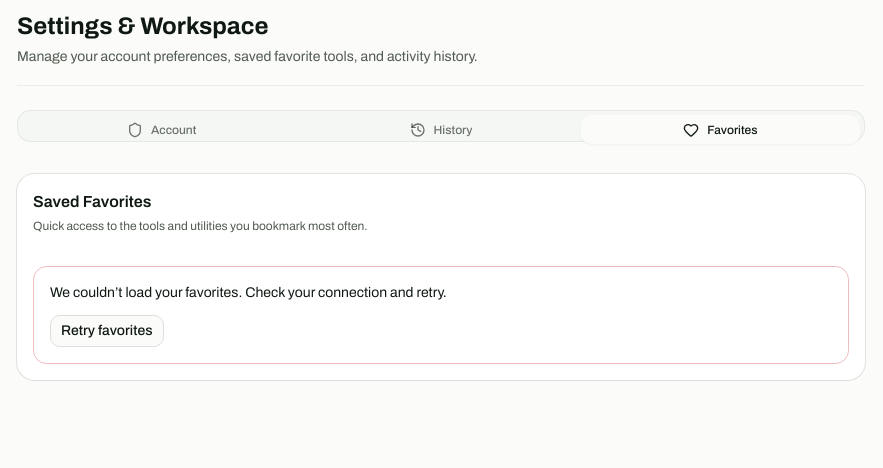
Test case: unified settings workspace › shows a retryable failure, not a false empty favorites list
Expected: the message shows "couldn’t load your favorites", [50, 285, 447, 300]
Click the button "Retry favorites": point(107, 331) [50, 315, 164, 347]
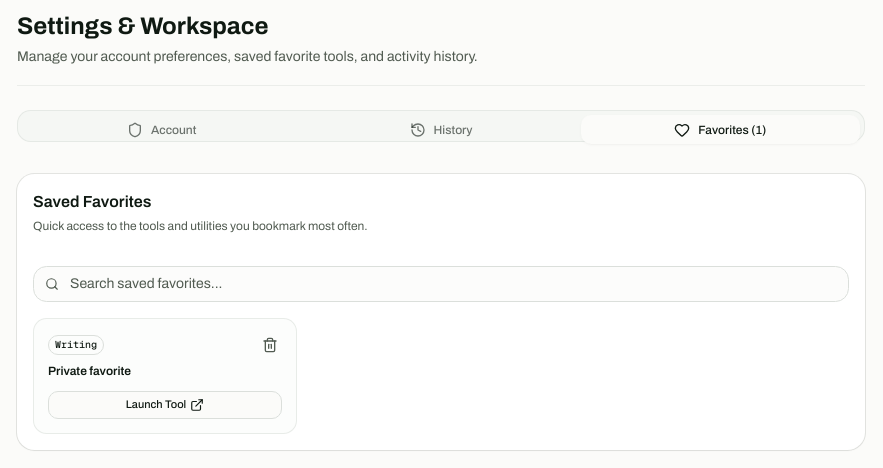
Now the link "Private favorite" is shown, box [48, 364, 131, 378]
